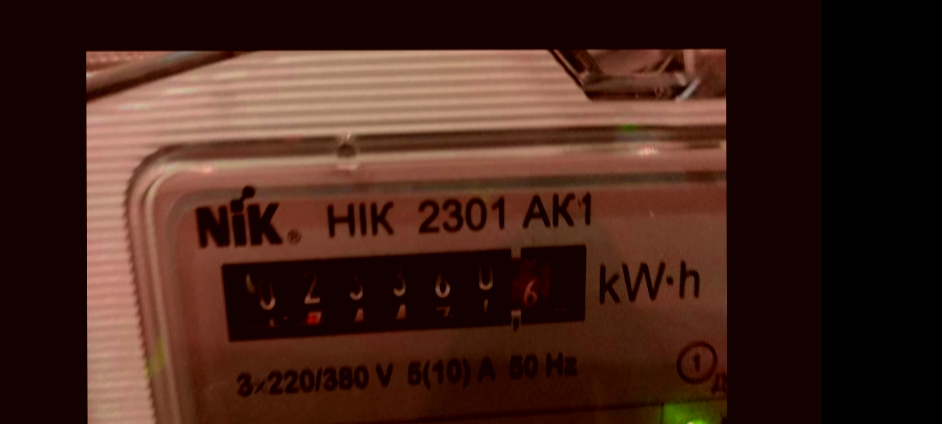0: (252, 272, 278, 314), (472, 256, 495, 293)
2: (296, 266, 322, 306)
3: (385, 261, 407, 300), (343, 264, 364, 304)
6: (427, 261, 453, 302), (519, 275, 541, 311)
screen: (198, 232, 600, 351)
